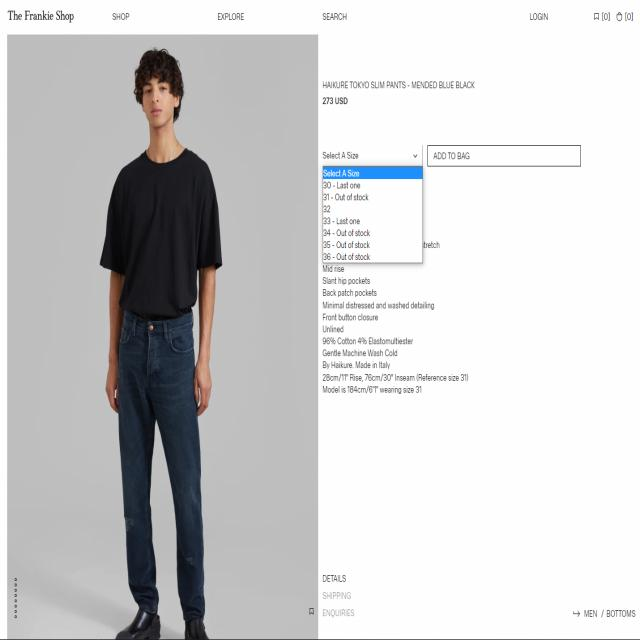sneaking: (321, 247, 381, 266), (322, 236, 379, 253), (324, 226, 372, 240), (320, 191, 374, 203), (323, 214, 369, 228), (322, 178, 364, 190)
